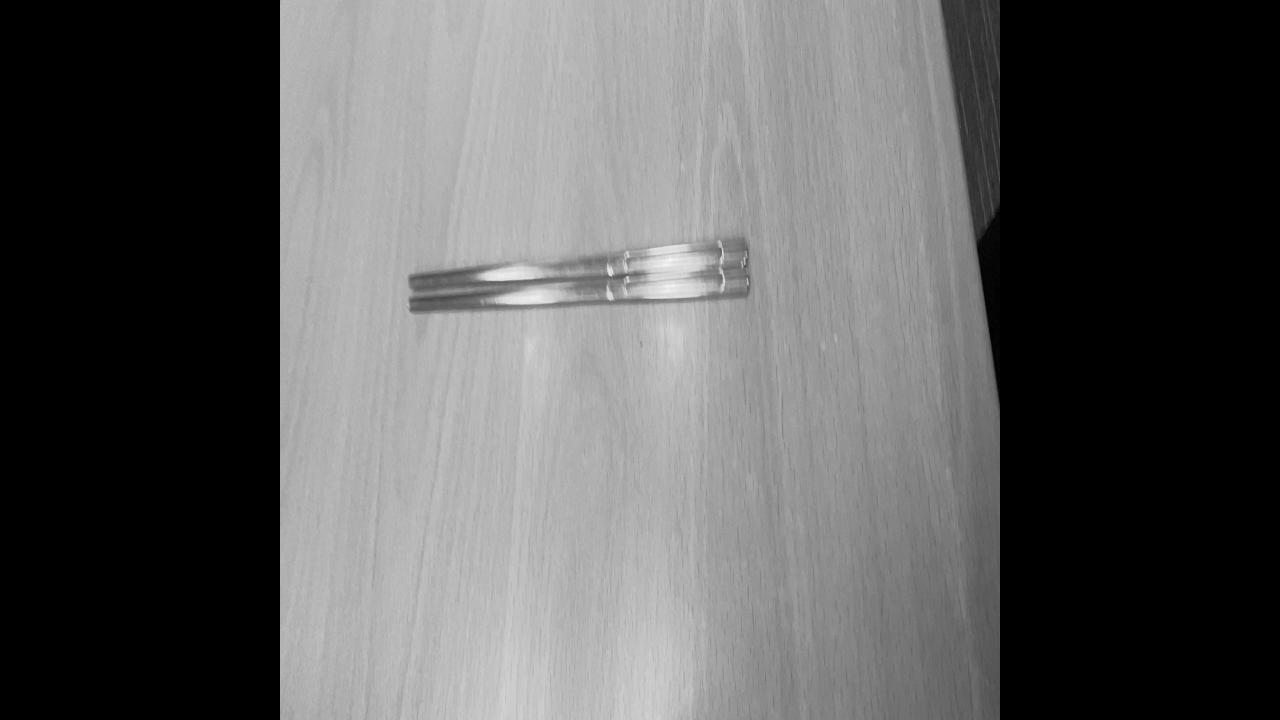chopstick: (407, 236, 750, 316)
